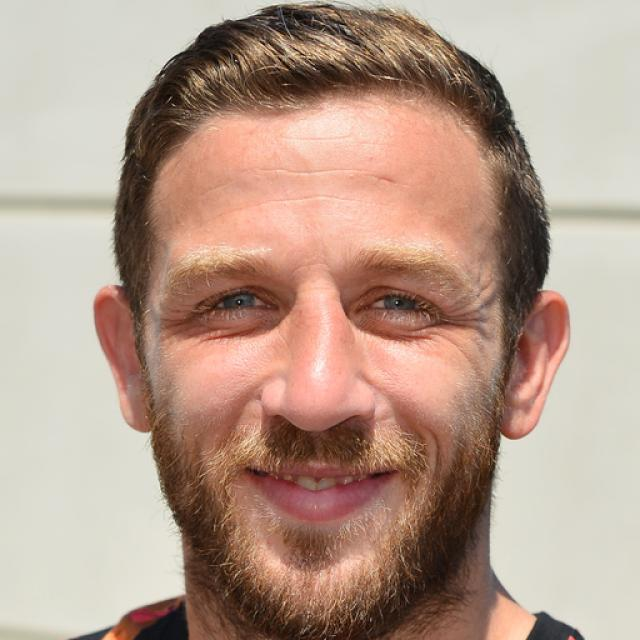Wrinkle: (198, 184, 377, 229), (238, 159, 412, 183), (270, 126, 393, 146)
